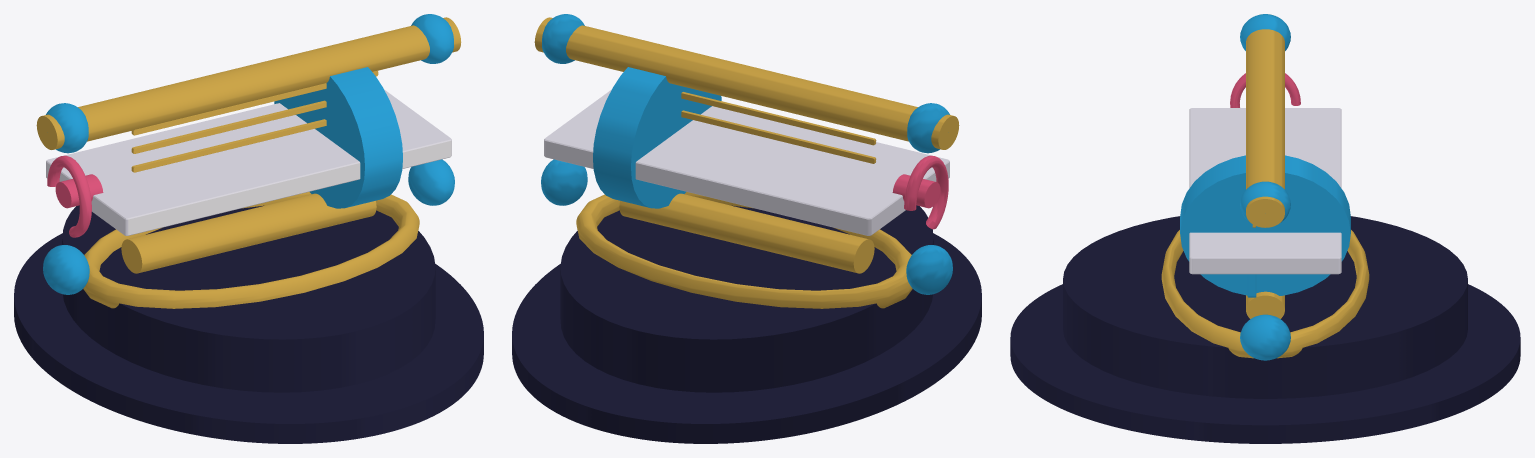
The model's file is 0697_《史记》_鱼腹帛书.glb.
3 views of the same model, side by side, from view 1: azimuth 30°, elevation 25°; view 2: azimuth 150°, elevation 25°; view 3: azimuth 270°, elevation 25° (orthographic). The views are drawn at different scales.
Parts seen in each view (by area): view 1: card_0697; view 2: card_0697; view 3: card_0697.
Part boxes in pixels (box(x1,y1,x2,y2)): card_0697: box(14, 14, 483, 443); card_0697: box(512, 14, 981, 443); card_0697: box(1010, 14, 1520, 443).
Size of the model in its own units: 1.55 by 1 by 1.8.
